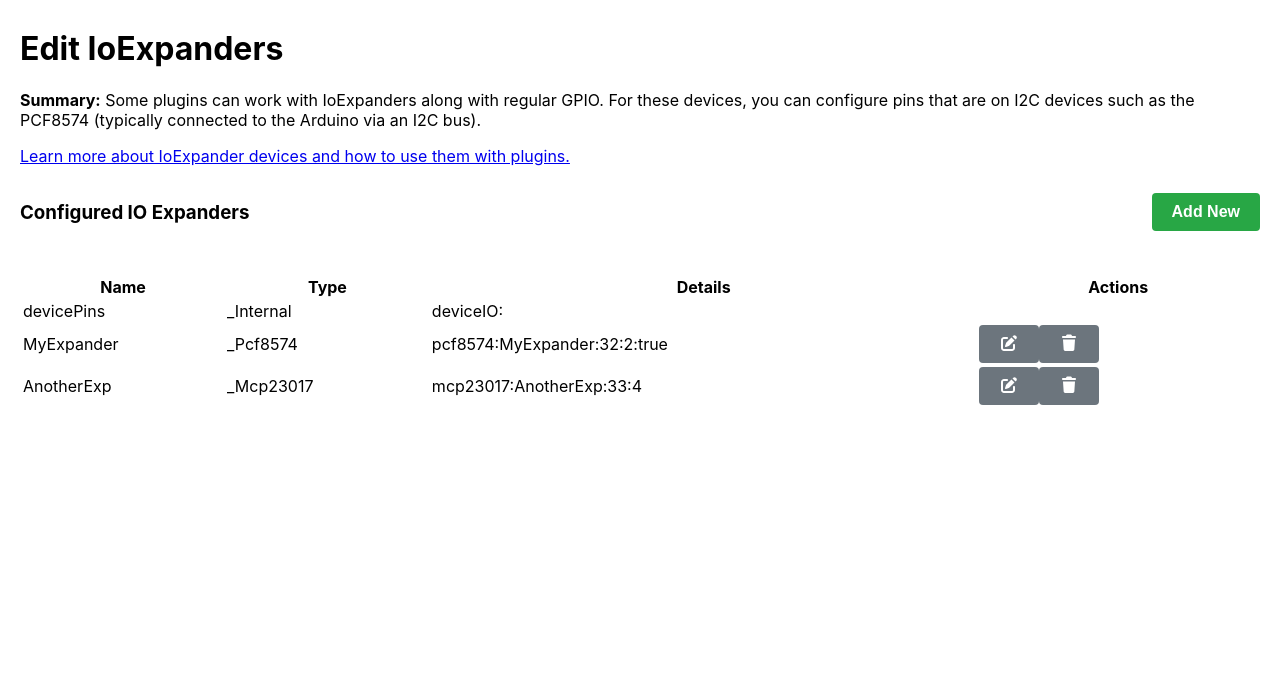
Test: IoExpanderComponent › allows adding a new expander
This screenshot has width=1280, height=699.
Click the button "Add New" at (1206, 212), box [1152,193,1260,231]
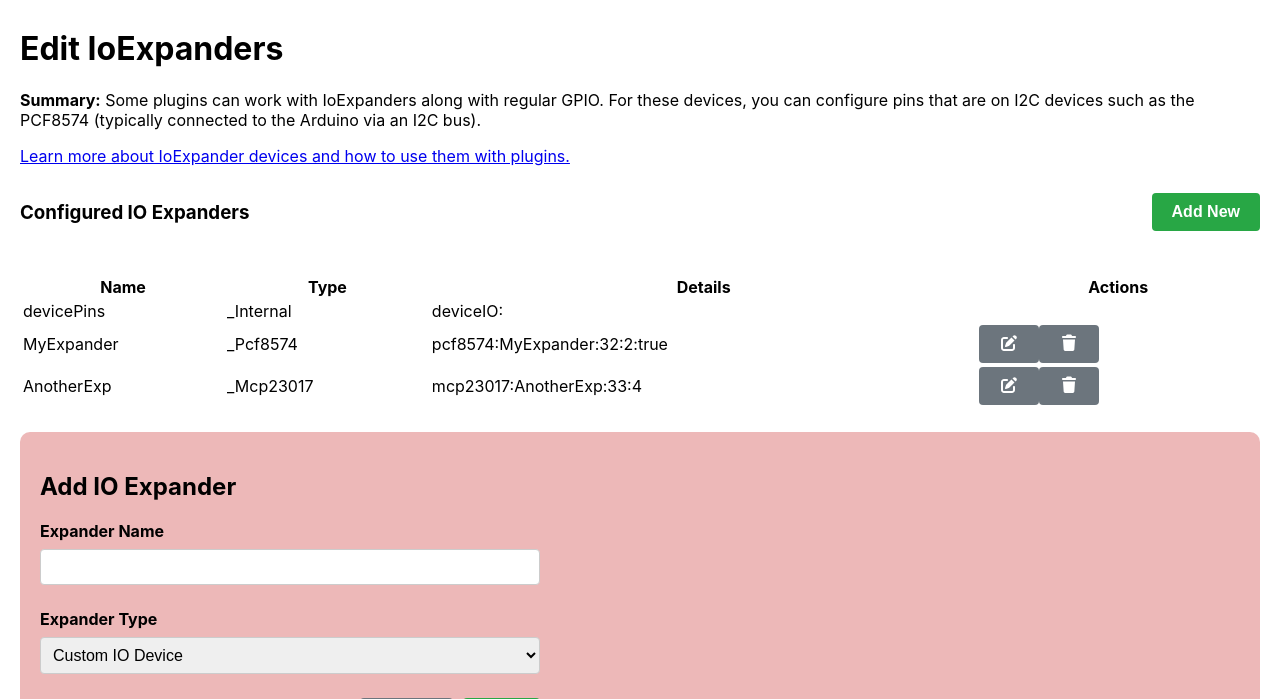
Type "NewExp" into the field labelled "Expander Name" at (290, 567), box [40,549,540,585]
(page scrolled)
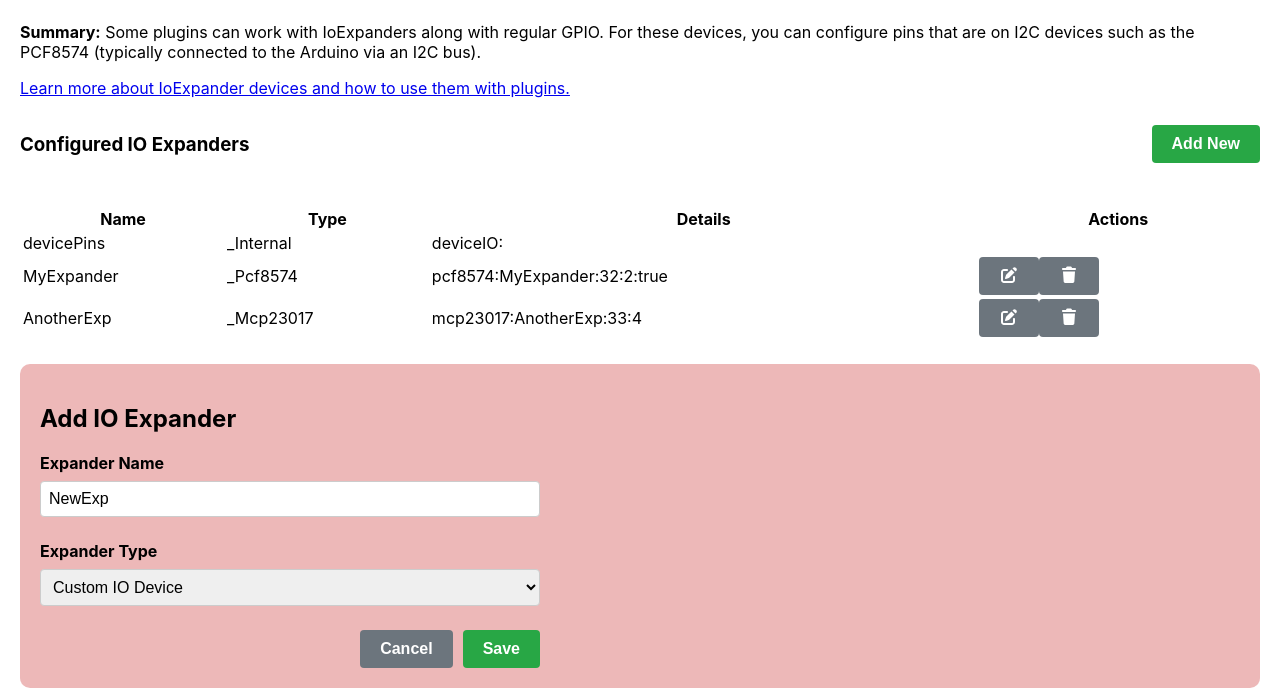
Click the button "Save" at (501, 649), box [463,630,540,668]
(page scrolled)
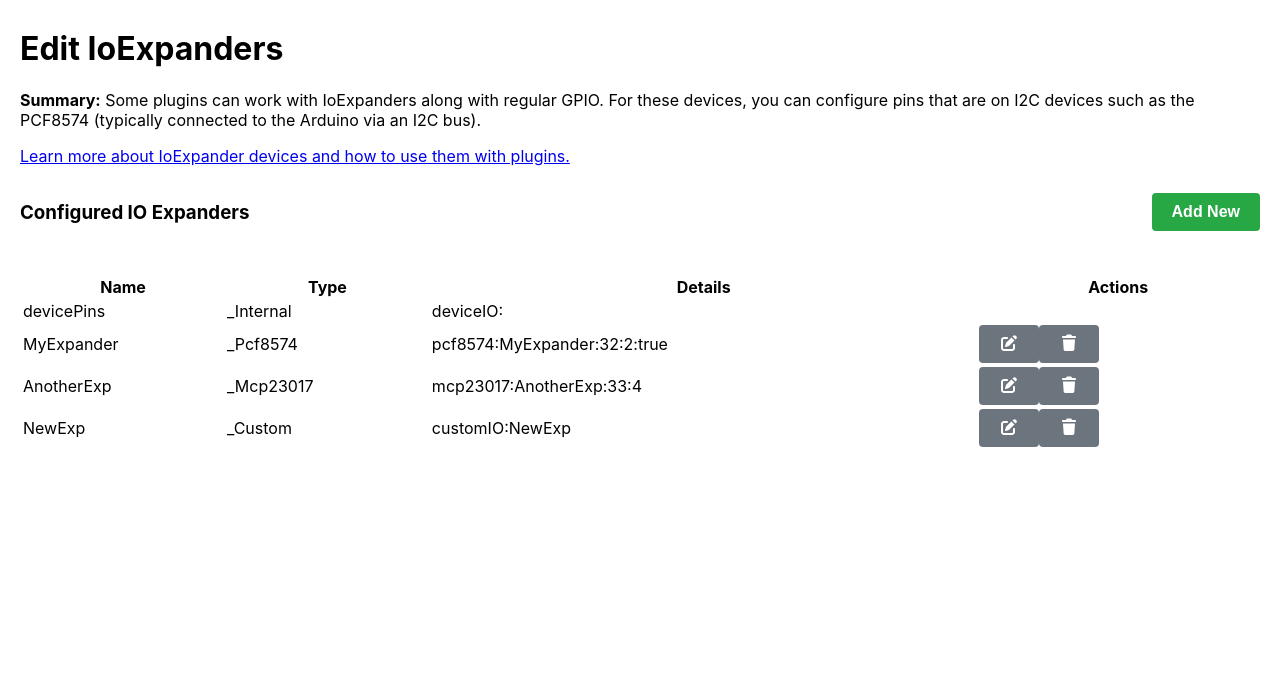
Check: the cell "customIO:NewExp" is shown, box [431,408,976,448]
